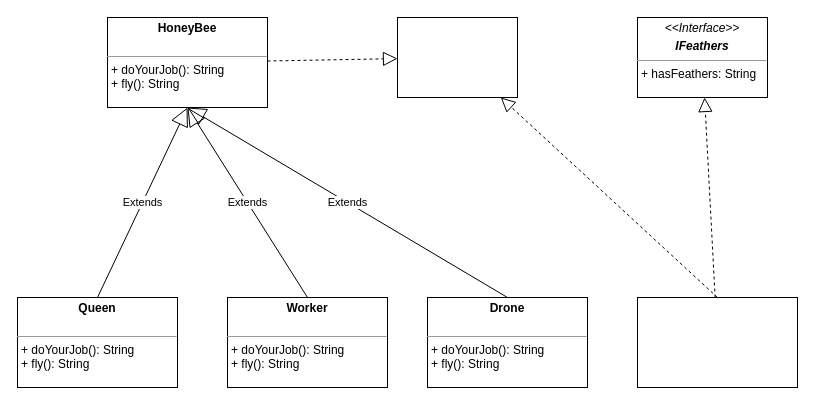
This 815x405 diagram has some shape labels left out. Here are the shapes that lost their labels. From the top down, the centre of each, then its label:
At (457,57): "<<Interface>> Flyable + fly(): String".
At (717,342): "Bird + doYourJob(): String + fly(): String".
